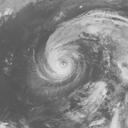cyclone: (36, 46, 86, 85)
